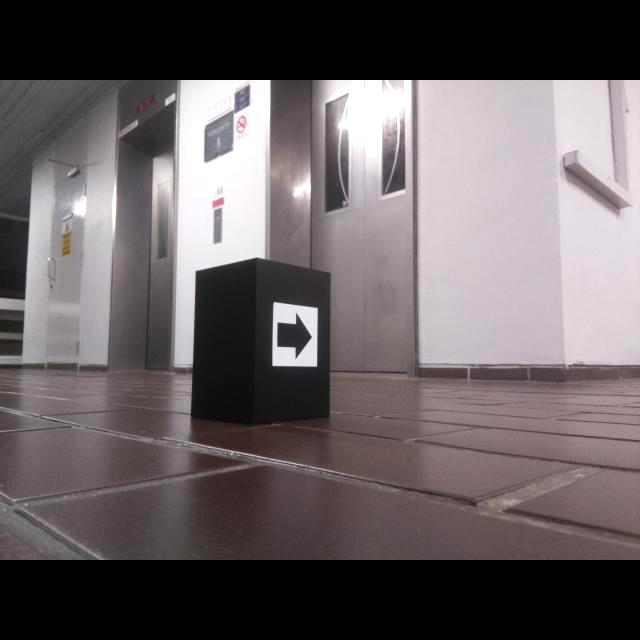RIGHT: (277, 311, 311, 358)
